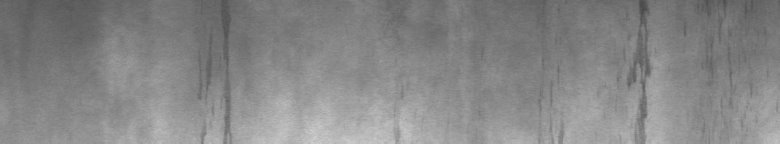ka: (560, 4, 657, 136)
